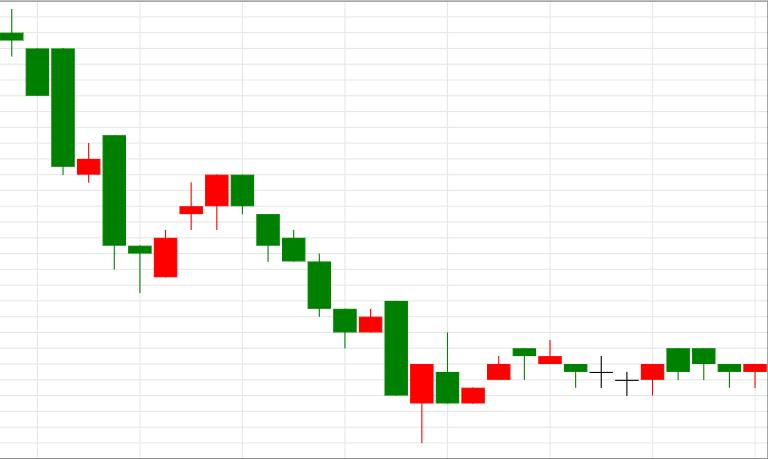hammer_rise: (231, 174, 433, 443)
